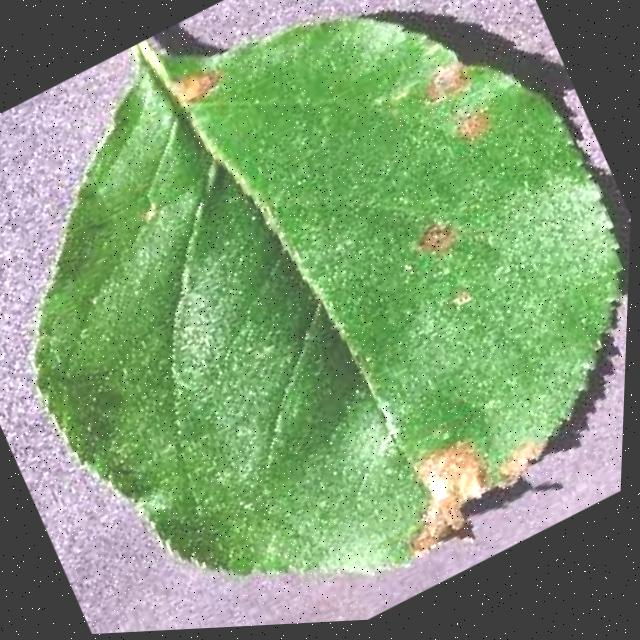black_rot: (357, 399, 571, 586), (387, 39, 494, 129), (381, 184, 479, 281), (150, 46, 246, 134), (432, 87, 521, 163)
